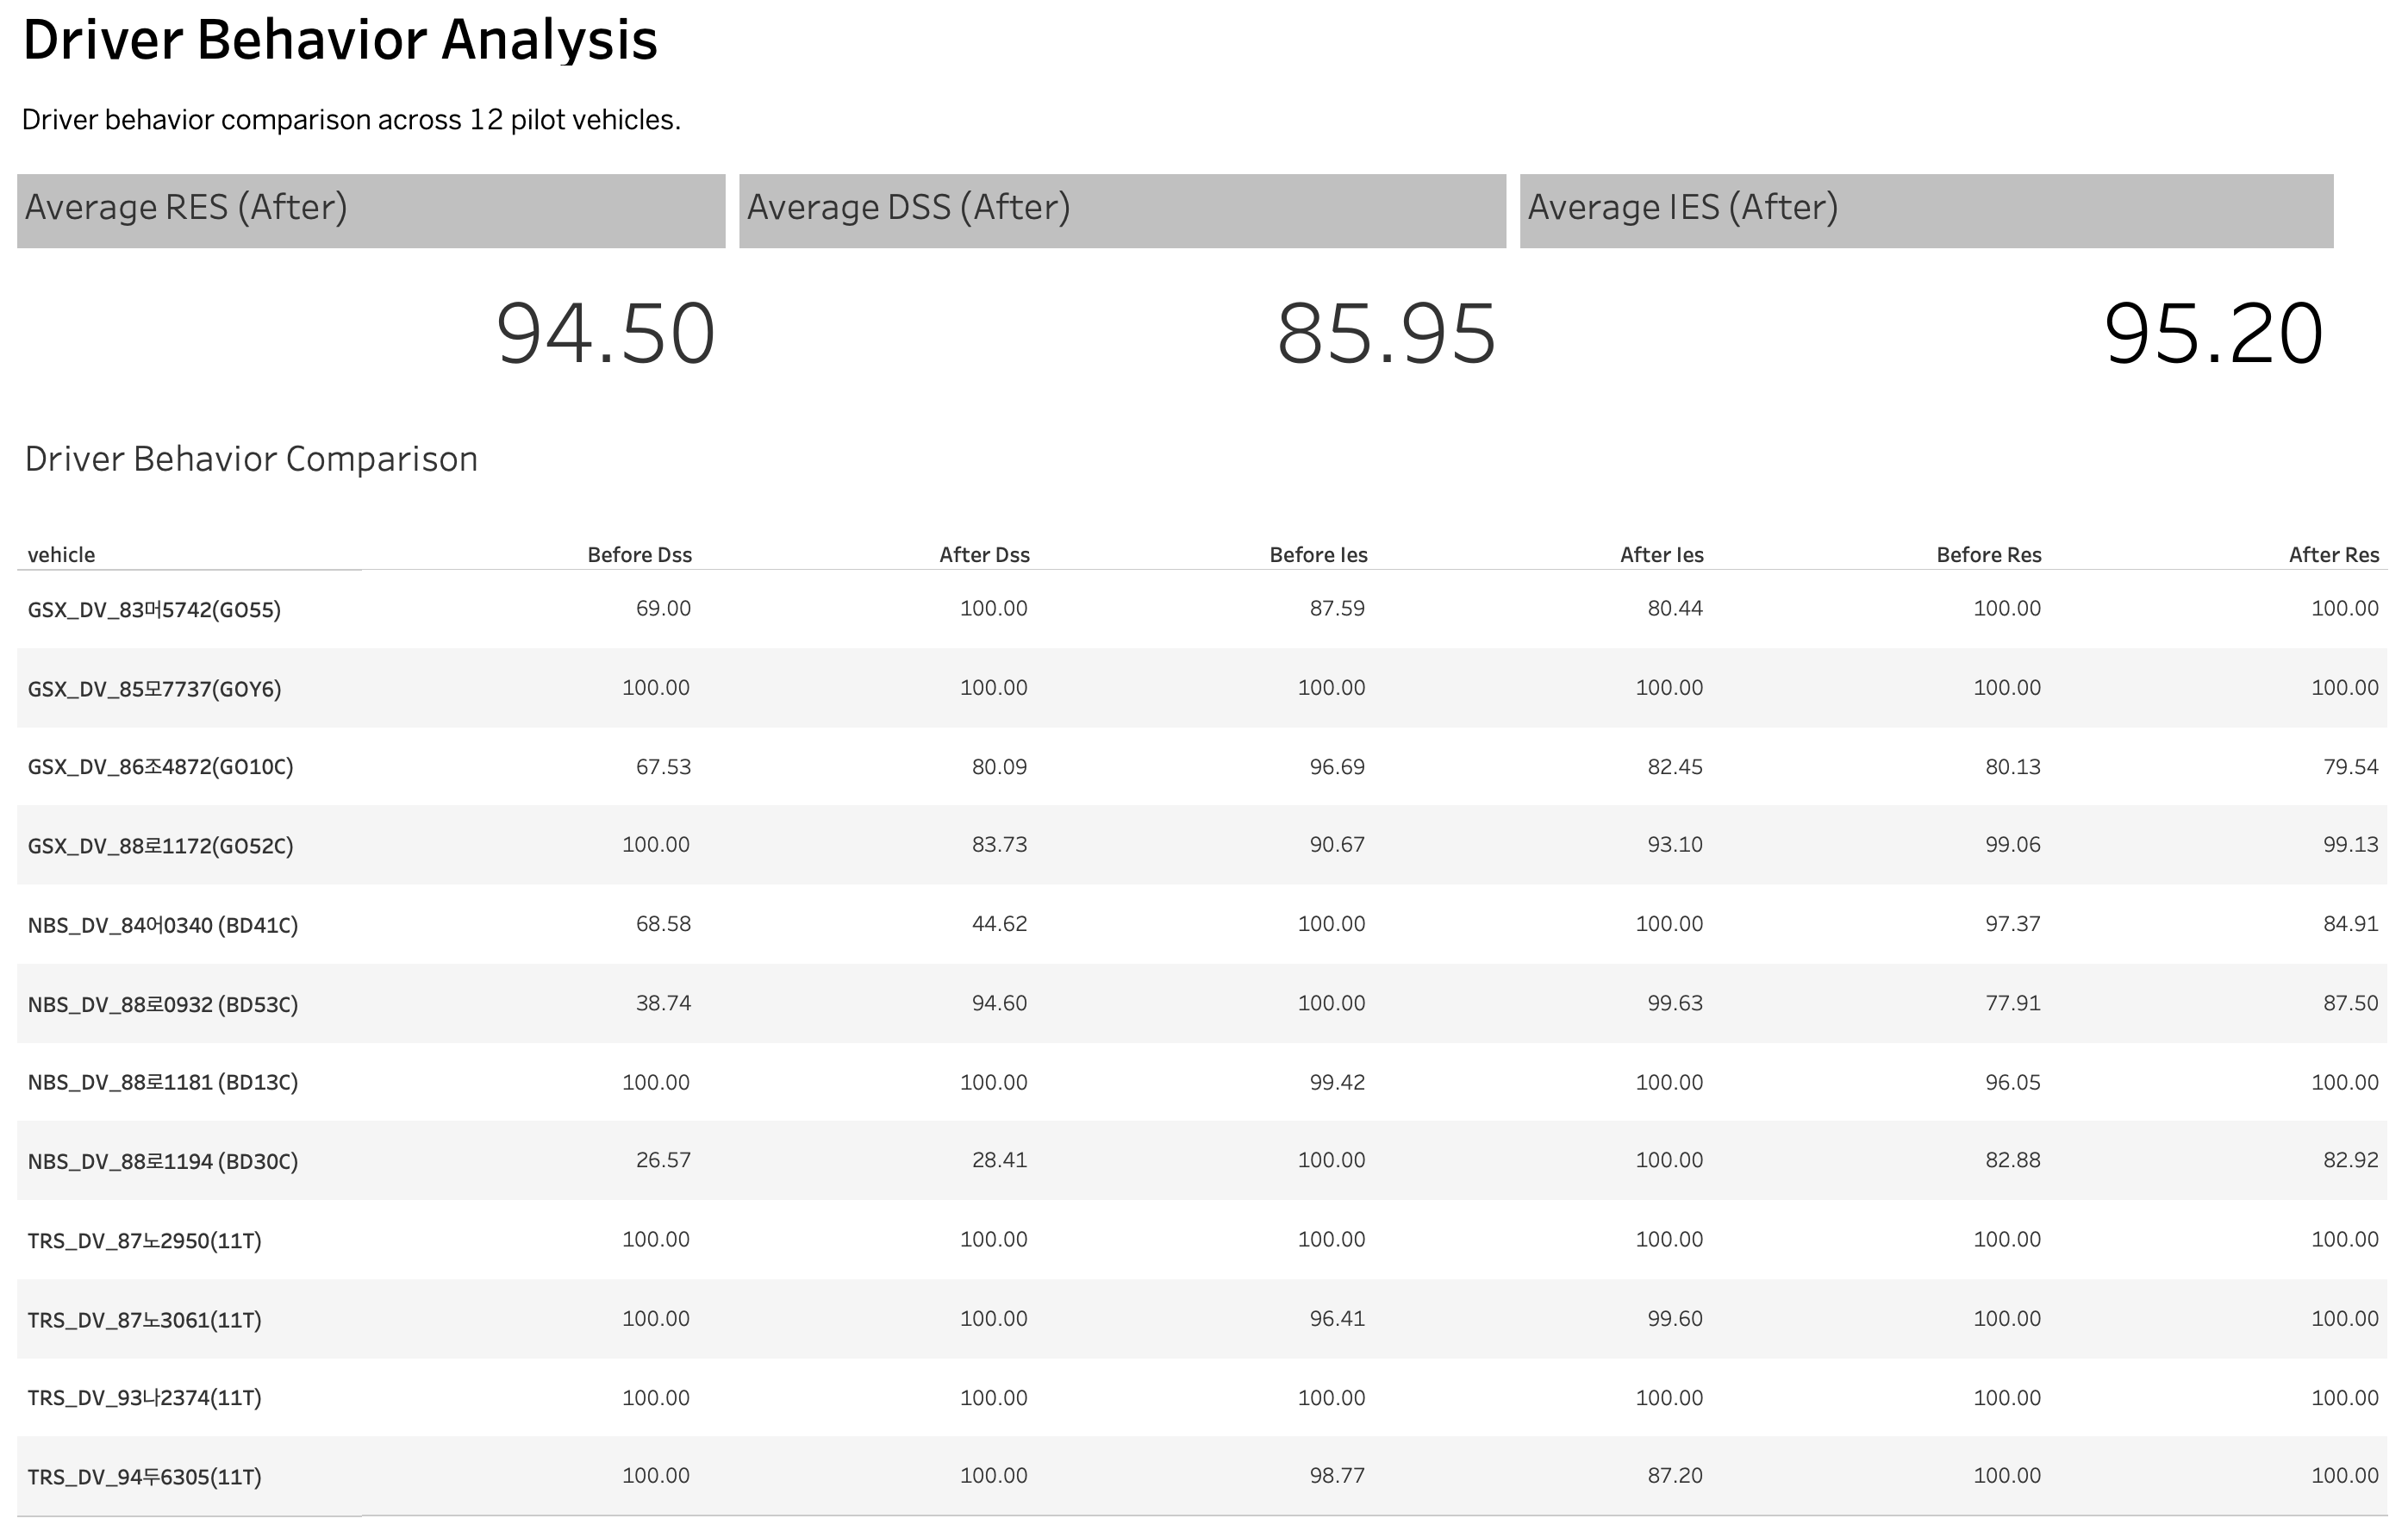

The page's visual inventory and layout, read from the dashboard file:
{"tool":"tableau","page":{"name":"Dashboard - Driver Behavior Analysis","canvas":[1000,1000],"units":"permille","ordinal":0},"visuals":[{"type":"text","box":[5.7,8.9,988.6,46.7]},{"type":"text","box":[5.7,55.6,988.6,61.1]},{"type":"worksheet","title":"15 KPI - Average RES After","mark":"Automatic","box":[5.7,116.7,299.3,162.2]},{"type":"worksheet","title":"17 KPI - Average DSS After ","mark":"Automatic","box":[305,116.7,323.6,162.2]},{"type":"worksheet","title":"16 KPI - Average IES After","mark":"Automatic","box":[628.6,116.7,342.9,162.2]},{"type":"worksheet","title":"18 Behavior Table","mark":"Text","rows":["vehicle"],"box":[5.7,278.9,988.6,712.2]}]}

Visuals, with their boxes on the dashboard's canvas, which has no fixed pixel size, in thousandths of its width and height (x1, y1, x2, y2). These are canvas units, not pixel positions in the 2408x1531 screenshot, which may show the page scaled, cropped or inside an application window:
text: [left=6, top=9, right=994, bottom=56]
text: [left=6, top=56, right=994, bottom=117]
"15 KPI - Average RES After" worksheet: [left=6, top=117, right=305, bottom=279]
"17 KPI - Average DSS After " worksheet: [left=305, top=117, right=629, bottom=279]
"16 KPI - Average IES After" worksheet: [left=629, top=117, right=972, bottom=279]
"18 Behavior Table" worksheet (Text marks): [left=6, top=279, right=994, bottom=991]
